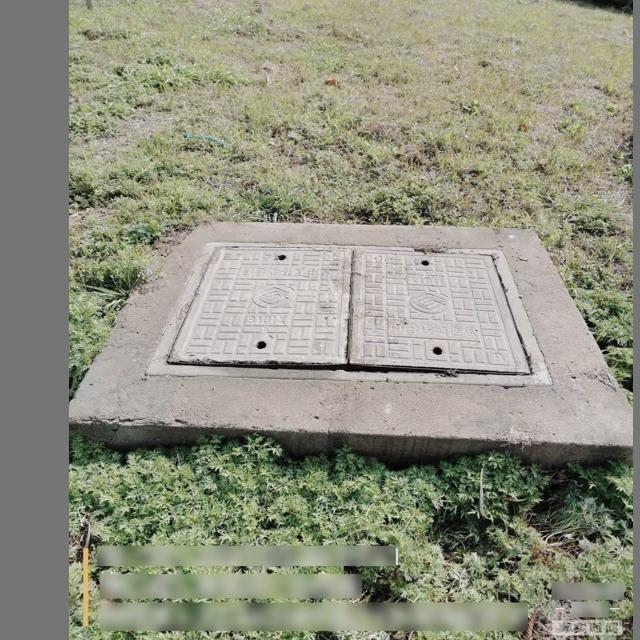good: (182, 228, 550, 388)
